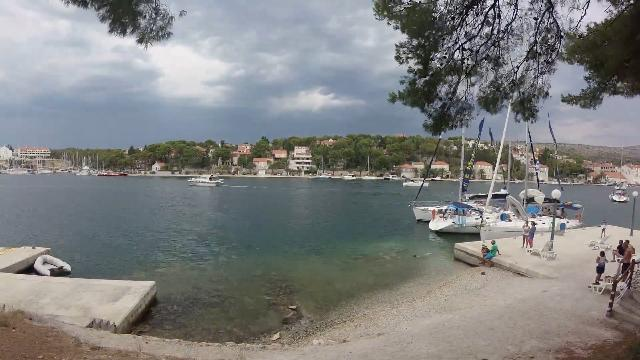Sailboat: (399, 174, 433, 188)
ferry: (184, 170, 228, 188)
